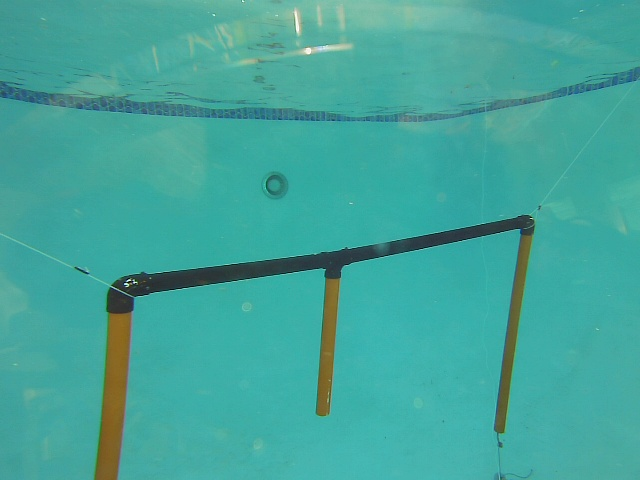Gate: (490, 229, 535, 438), (93, 305, 135, 480), (312, 270, 343, 420)
